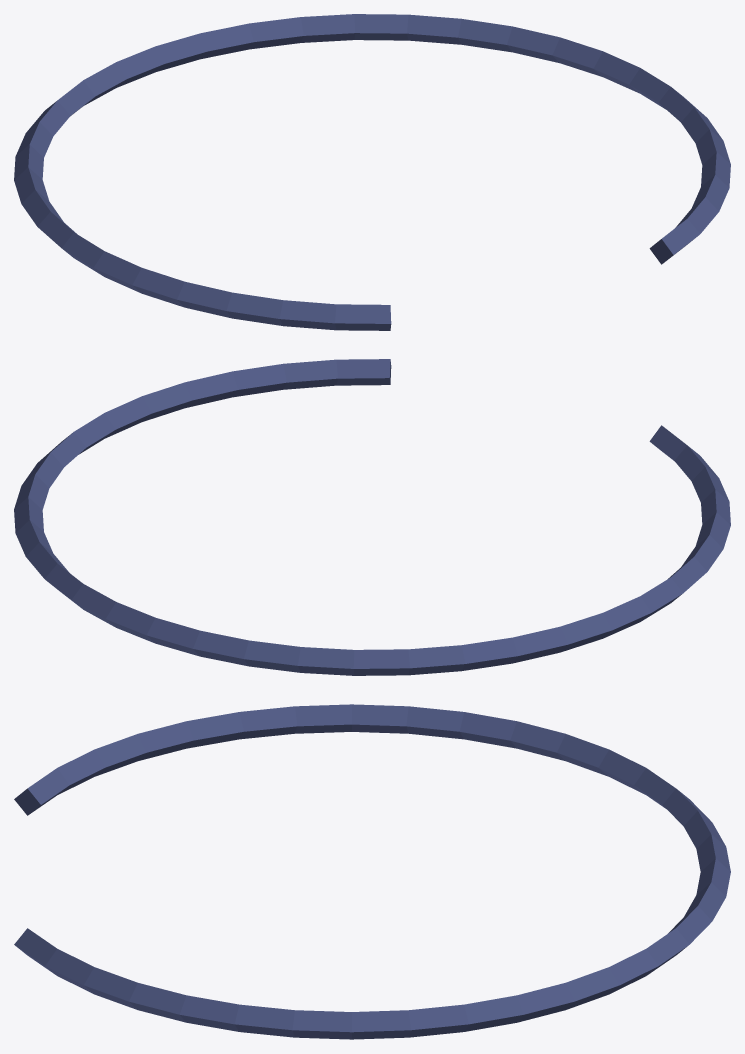
The model's file is Landolt.fbx.
The picture shows the model from 3 angles, top to bottom: view 1: azimuth 30°, elevation 25°; view 2: azimuth 150°, elevation 25°; view 3: azimuth 270°, elevation 25°; orthographic projection. The views are drawn at different scales.
Visible parts, largest first — view 1: Torus; view 2: Torus; view 3: Torus.
Boxes of the visible parts, x1,y1,x2,y2 form: Torus: [14, 14, 730, 330]; Torus: [14, 359, 730, 675]; Torus: [14, 704, 730, 1039].
Bounding box in the file's own units: 1250 × 50 × 1182.
